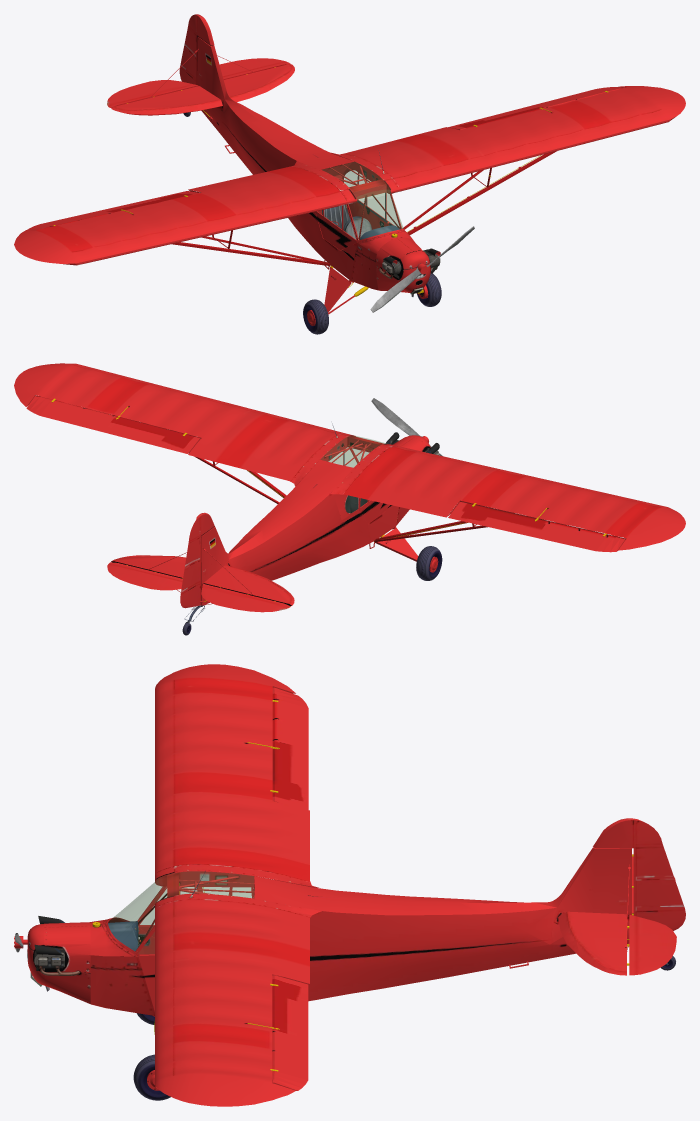
Rendered from lite-red.gltf.
3 views of the same model, one above another, from view 1: azimuth 30°, elevation 25°; view 2: azimuth 150°, elevation 25°; view 3: azimuth 270°, elevation 25° (orthographic). The views are drawn at different scales.
Parts seen in each view (by area): view 1: Exterior; view 2: Exterior; view 3: Exterior.
Boxes of the visible parts, x1,y1,x2,y2 form: Exterior: (14,14,685,334); Exterior: (14,363,685,635); Exterior: (14,664,685,1106).
Bounding box in the file's own units: 10.65 × 2.73 × 6.86.
73 materials, 61 textured.
